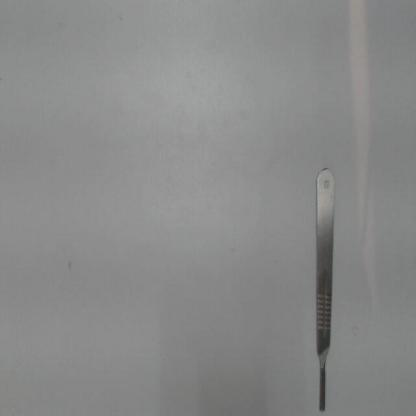No.4 BP Handle: (310, 161, 340, 413)
